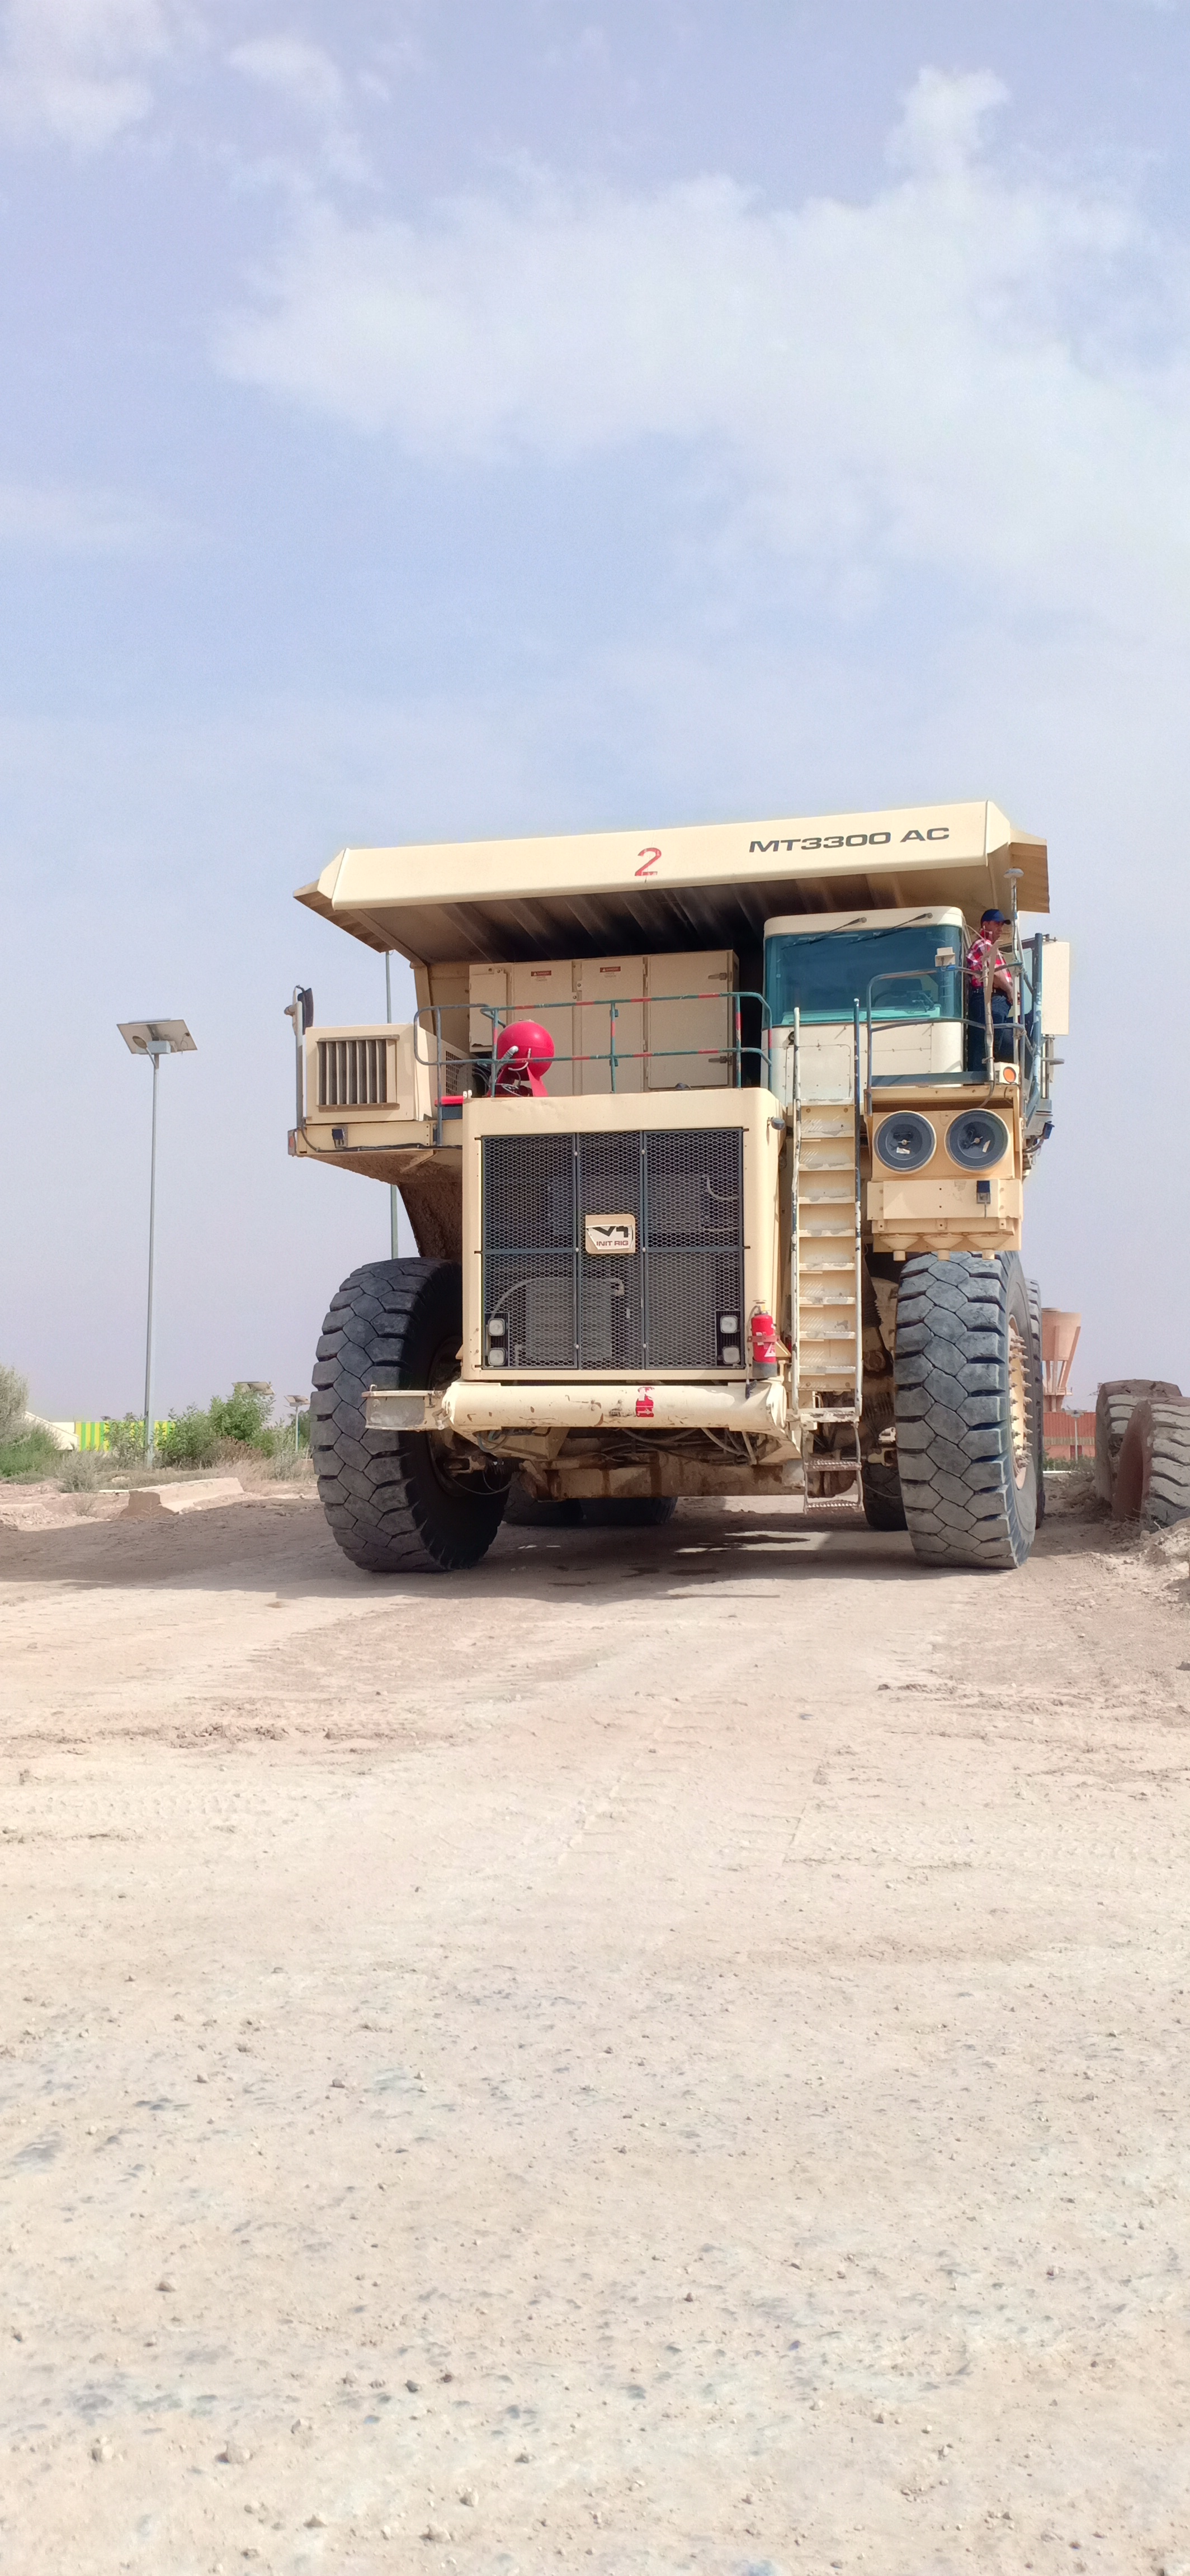camion: (270, 789, 1103, 1633)
